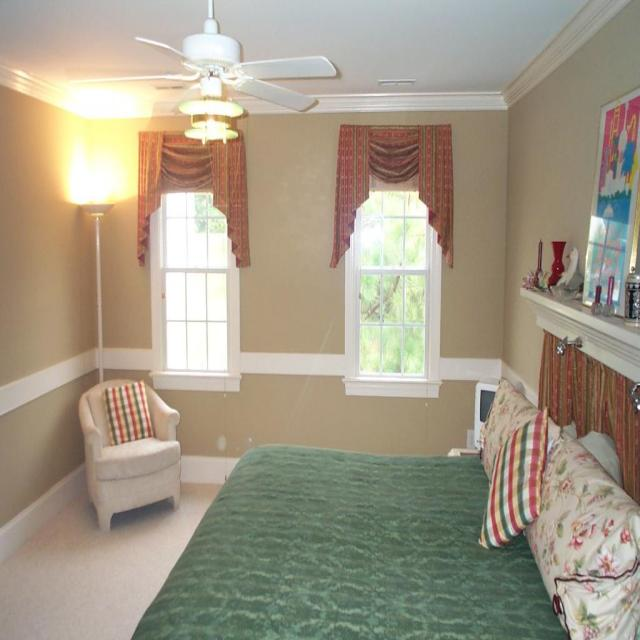Bulb: (64, 0, 338, 105)
